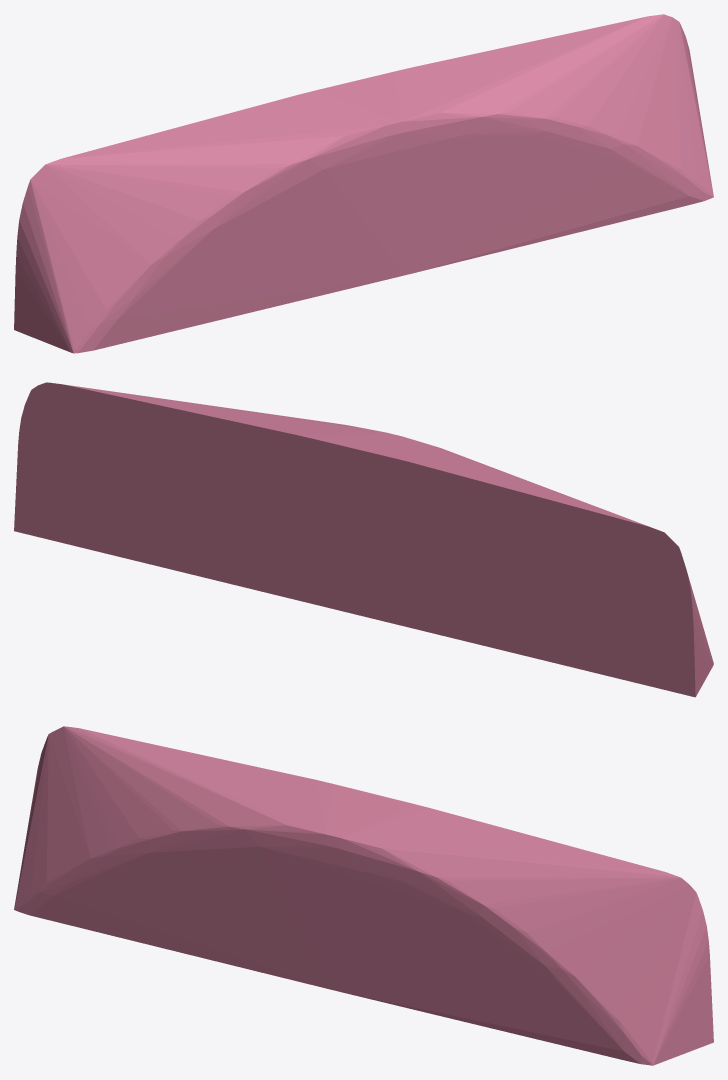
Rendered from pelvis_part_24.obj.
3 views of the same model, one above another, from view 1: azimuth 30°, elevation 25°; view 2: azimuth 150°, elevation 25°; view 3: azimuth 330°, elevation 25° (orthographic).
Size of the model in its own units: 0.0875 by 0.0203 by 0.00927.
